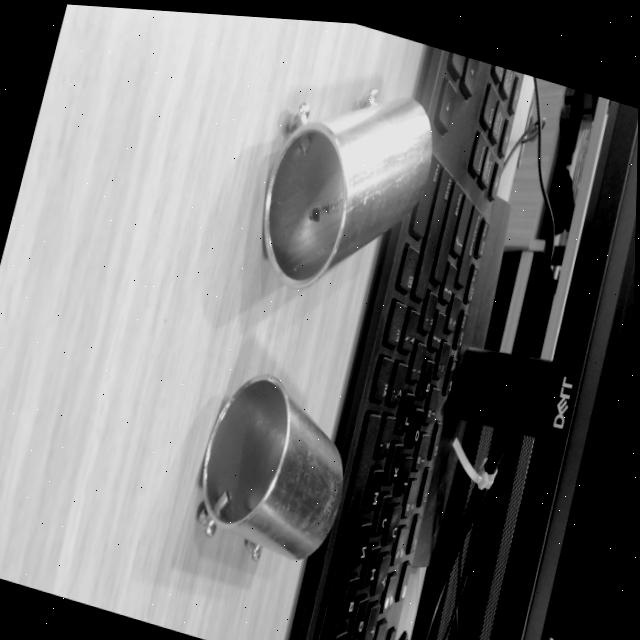Co_Lon: (245, 65, 445, 314)
Co_Nho: (181, 363, 365, 580)
